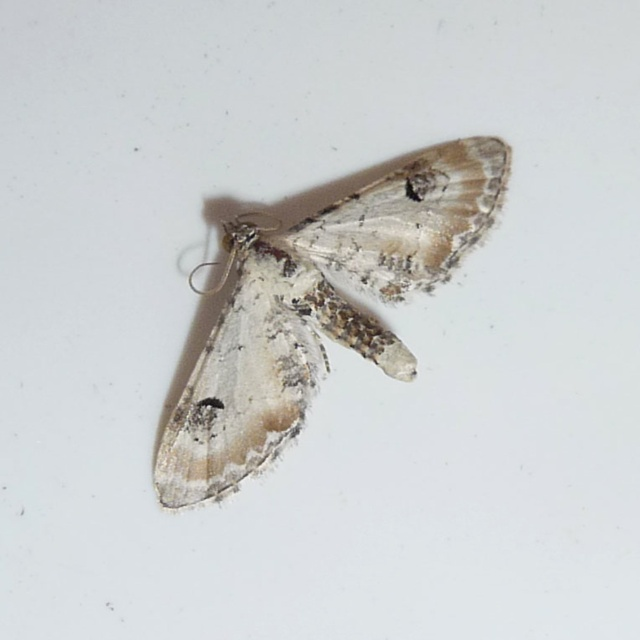Moths and butterflies: (148, 129, 516, 519)
